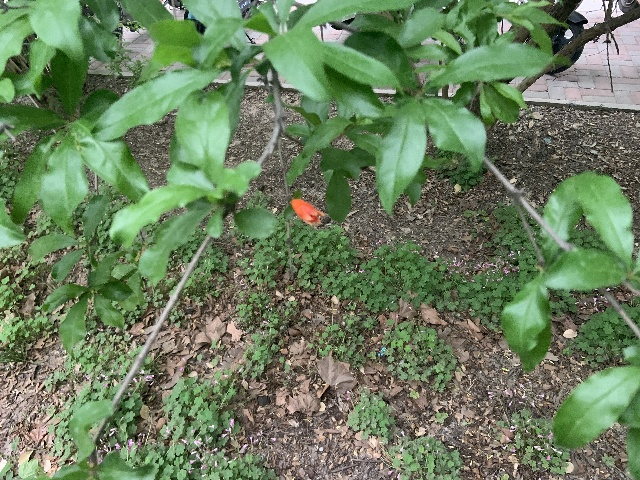flower: (291, 198, 325, 225)
